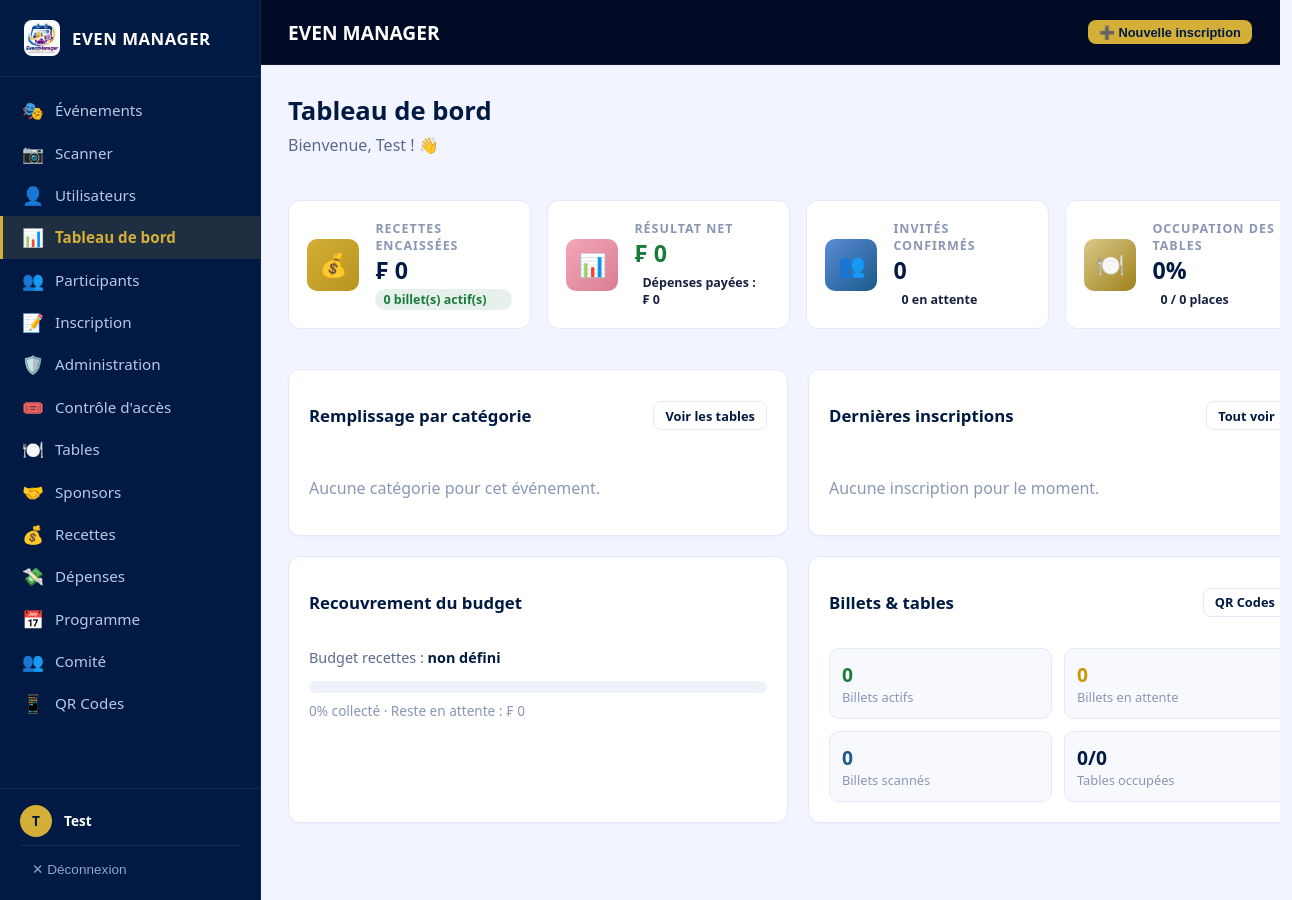
the Participants link opens the real guests page
Click the link "👥 Participants".
click(81, 280)  # box 22,268 -> 140,292
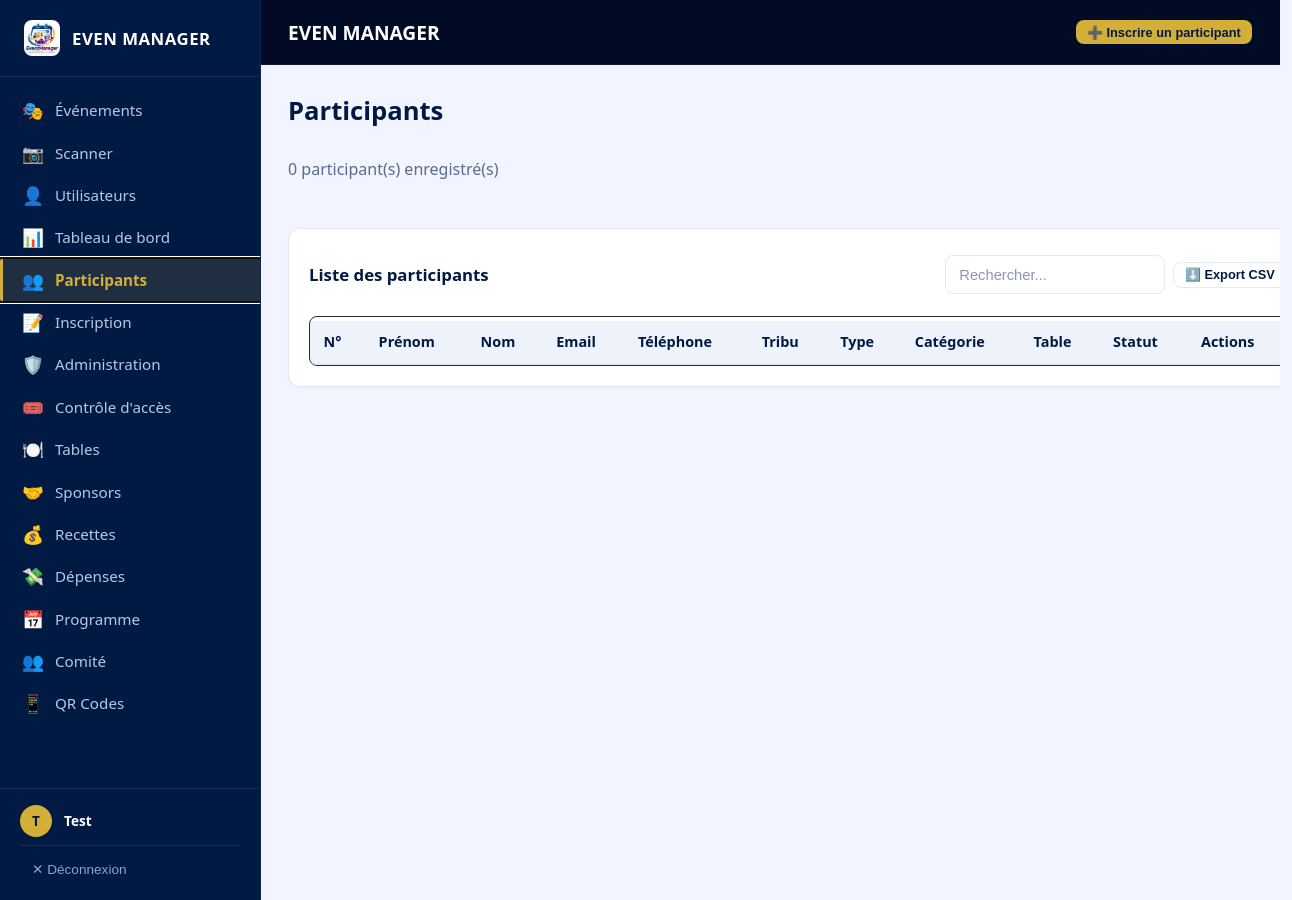
Check: the heading "Liste des participants" is shown, box 309,263 -> 489,286
